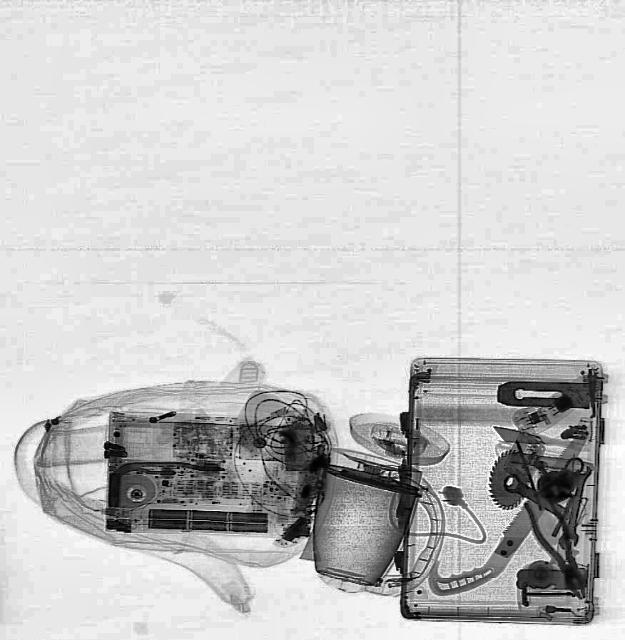Pliers: (520, 490, 596, 606)
Wrench: (499, 469, 584, 531), (556, 464, 594, 550)
